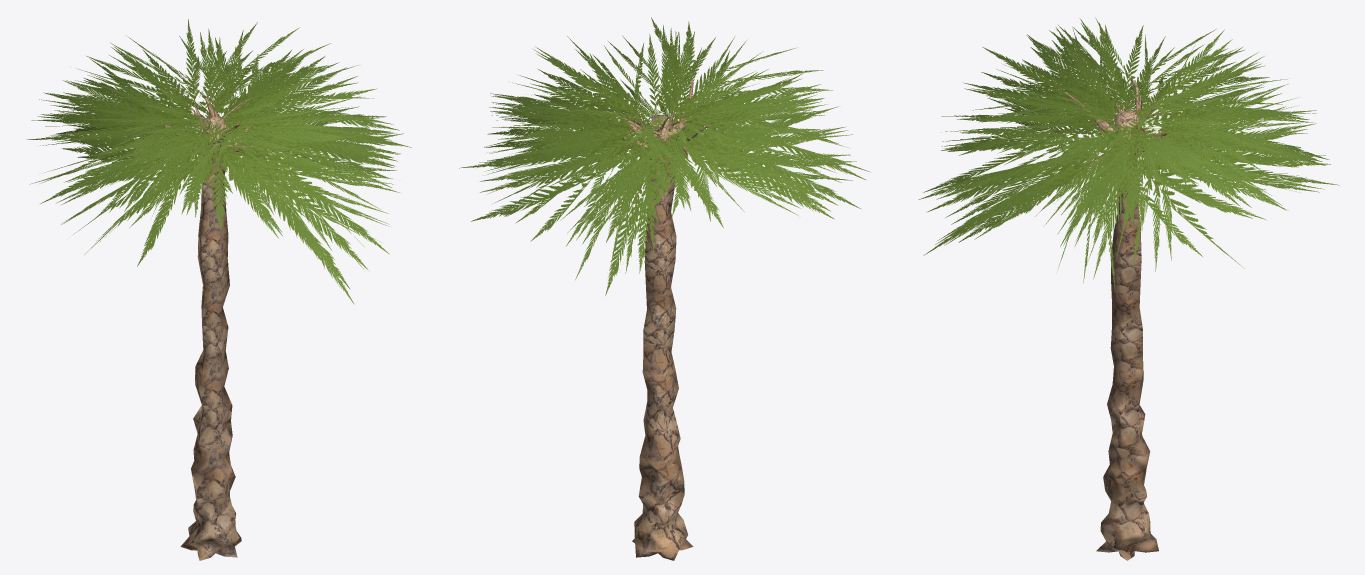
The model's file is Tree_LOD2.fbx.
3 renders of one model, left to right at view 1: azimuth 30°, elevation 25°; view 2: azimuth 150°, elevation 25°; view 3: azimuth 270°, elevation 25°, orthographic.
Parts seen in each view (by area): view 1: fern02_1, palm01_0; view 2: fern02_1, palm01_0; view 3: fern02_1, palm01_0.
Boxes of the visible parts, x1=… form: fern02_1: x1=27, y1=19, x2=411, y2=304; palm01_0: x1=152, y1=90, x2=271, y2=560; fern02_1: x1=459, y1=17, x2=870, y2=295; palm01_0: x1=604, y1=79, x2=708, y2=560; fern02_1: x1=918, y1=17, x2=1339, y2=291; palm01_0: x1=1067, y1=80, x2=1179, y2=560.
Size of the model in its own units: 845 by 1094 by 874.
Materials: 2 (2 with a texture image).
